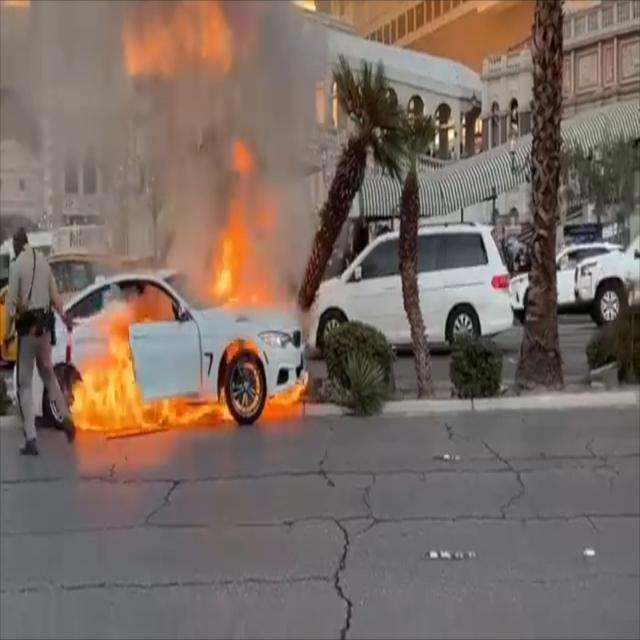fire: (66, 142, 316, 451)
